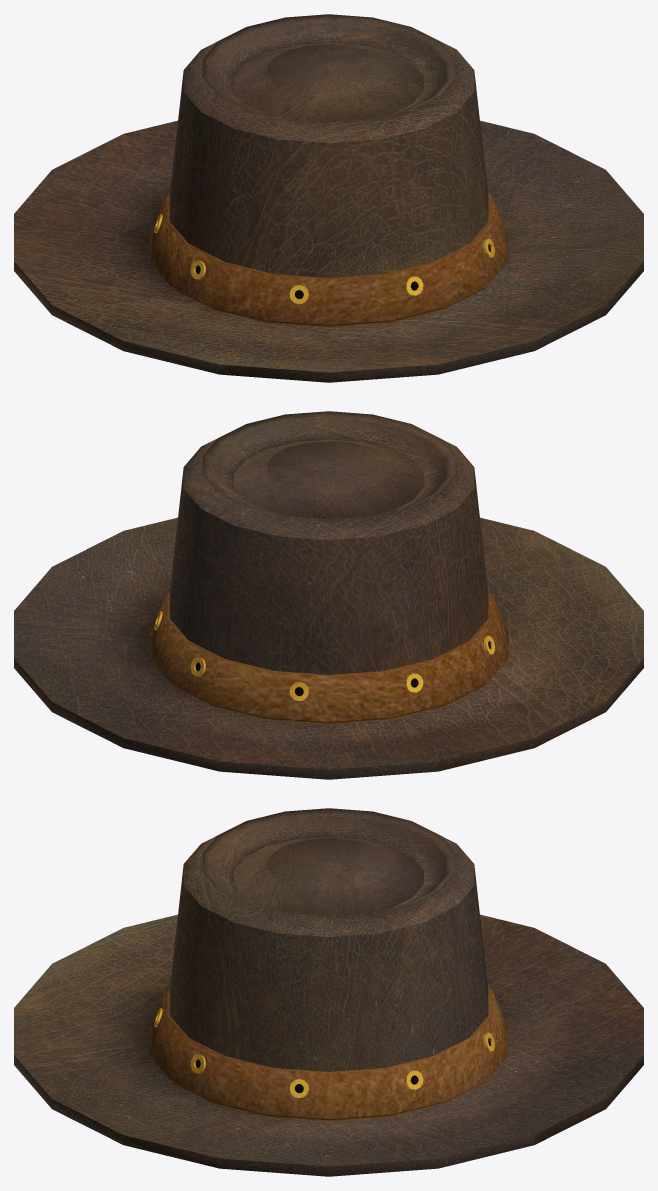
File: outfit_cowboy_hat.glb
The picture shows the model from 3 angles, top to bottom: view 1: azimuth 30°, elevation 25°; view 2: azimuth 150°, elevation 25°; view 3: azimuth 270°, elevation 25°; orthographic projection.
Parts seen in each view (by area): view 1: outfit_cowboy_hat; view 2: outfit_cowboy_hat; view 3: outfit_cowboy_hat.
Part boxes in pixels (<box>): outfit_cowboy_hat: <box>14,14,643,382</box>; outfit_cowboy_hat: <box>14,411,643,779</box>; outfit_cowboy_hat: <box>14,808,643,1176</box>.
Bounding box in the file's own units: 0.8402 × 0.3 × 0.8274.
4 materials, 3 textured.
